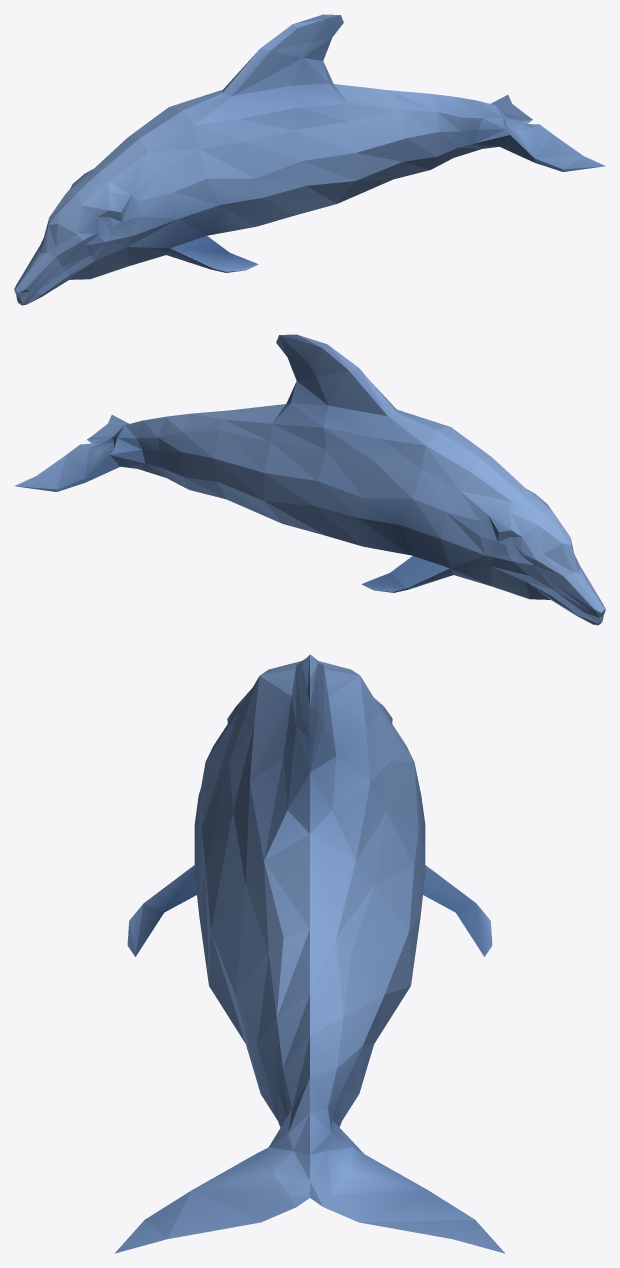
The model's file is dolphinC.obj.
The picture shows the model from 3 angles, top to bottom: view 1: azimuth 30°, elevation 25°; view 2: azimuth 150°, elevation 25°; view 3: azimuth 270°, elevation 25°; orthographic projection. The views are drawn at different scales.
Size of the model in its own units: 554 by 212 by 173.
